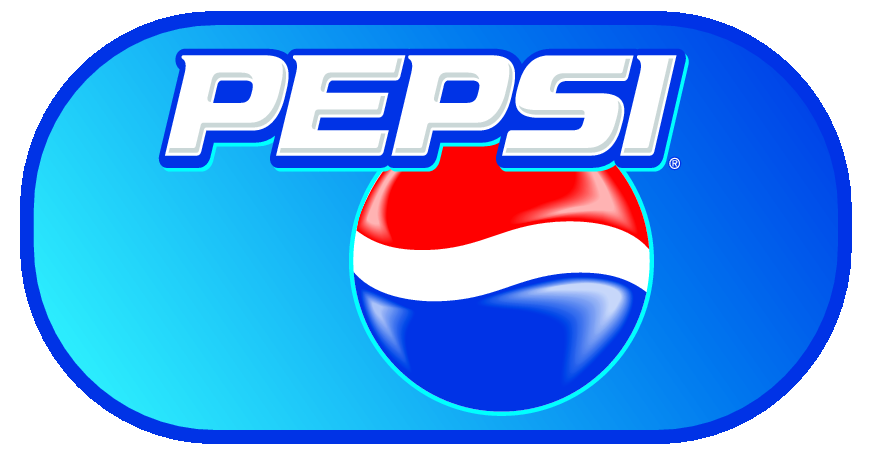pepsi: (348, 138, 648, 406), (361, 138, 648, 406)
